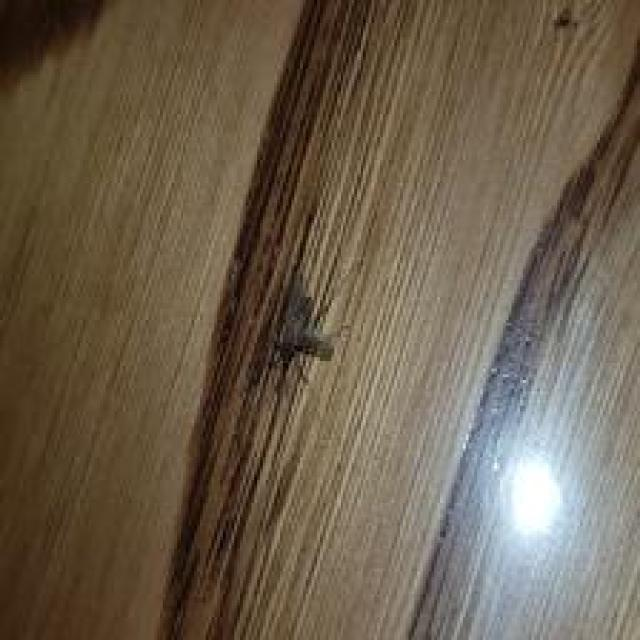Culex: (261, 266, 336, 380)
